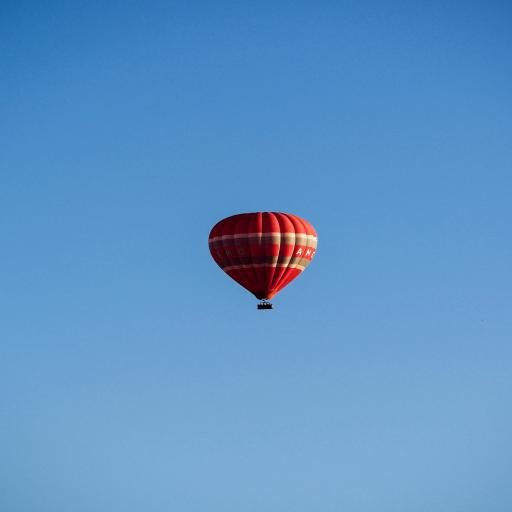hot air ballon: (208, 212, 318, 309)
